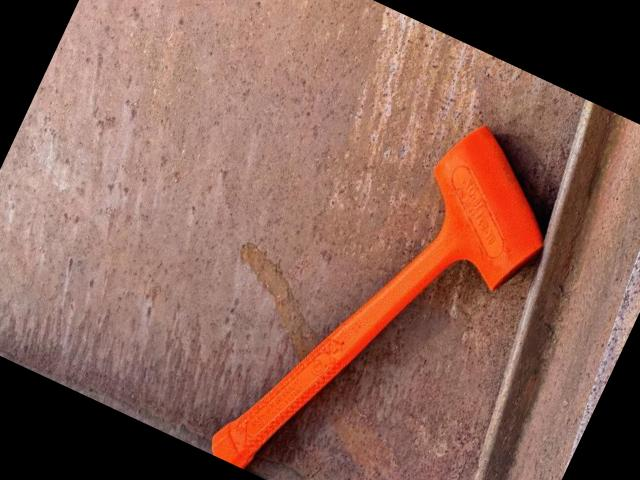hammer: (202, 75, 579, 480)
